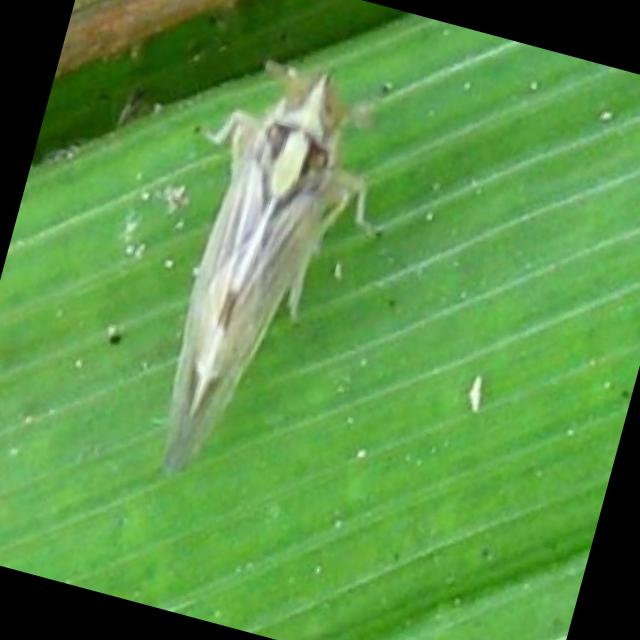brown-planthopper: (134, 48, 371, 496)
